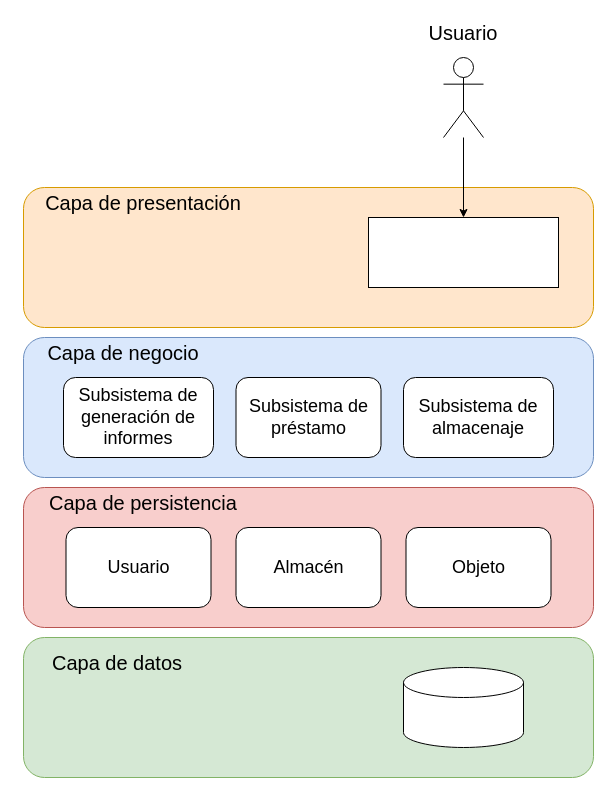
Image size: 611x795. Some labels were removed from this diagram. Each missing label, with the centre of its shape:
"Base de datos" goes at pixel 463 707.
"Interfaz de usuario" goes at pixel 463 252.
